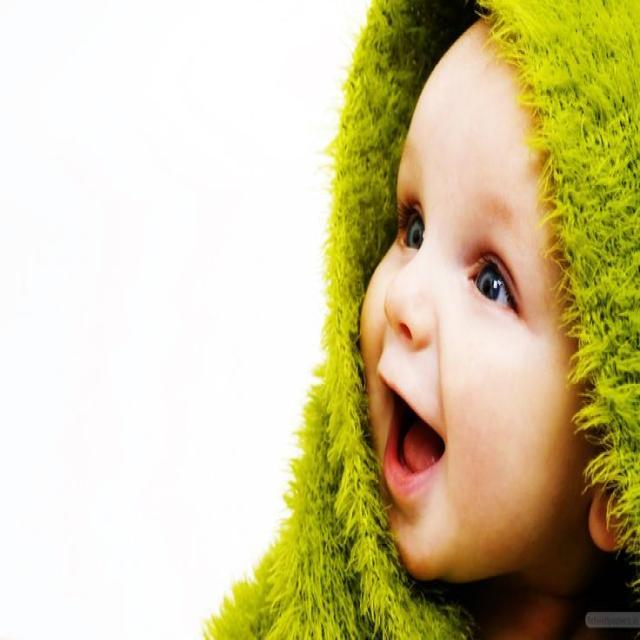non-dog: (195, 1, 640, 640)
